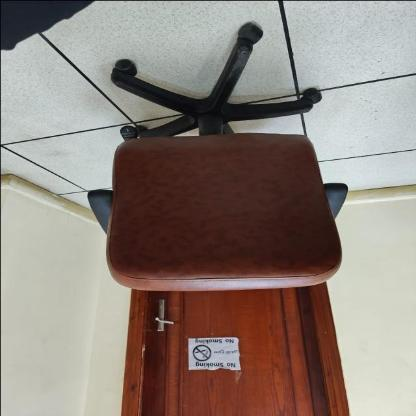chair: (92, 19, 354, 307)
